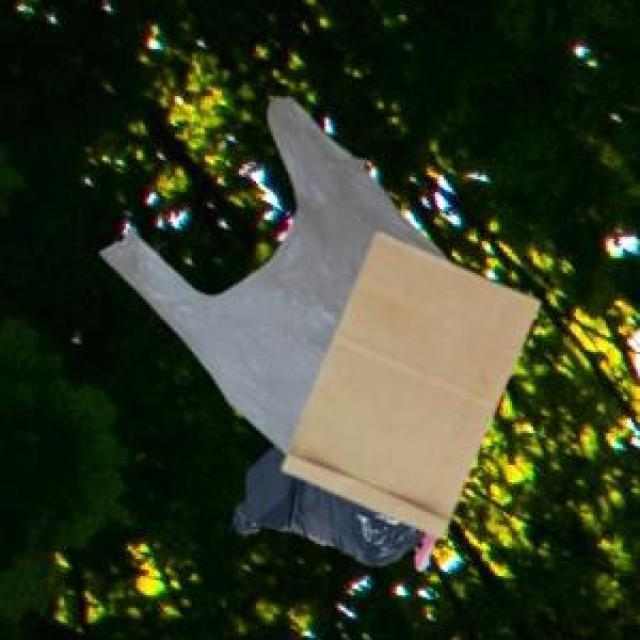miscellaneous trash: (227, 435, 431, 568)
paper: (280, 230, 536, 533)
